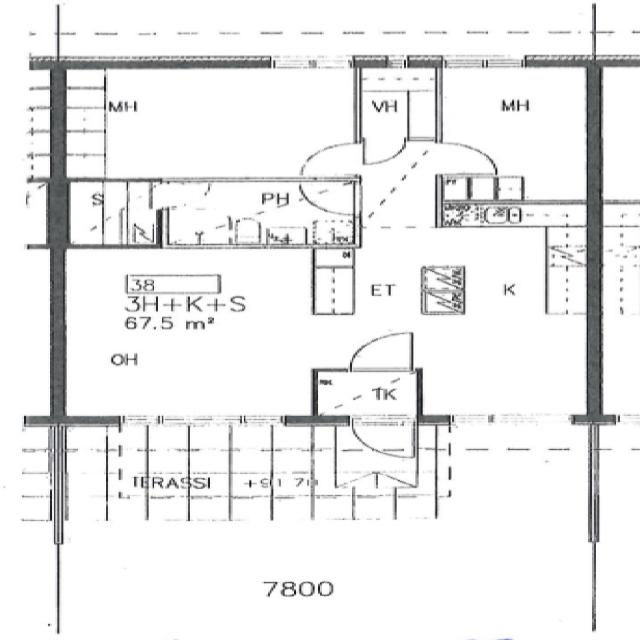door: (353, 416, 415, 462), (352, 333, 414, 372), (301, 182, 363, 215), (301, 143, 363, 175), (438, 144, 497, 174), (158, 183, 214, 209), (365, 138, 406, 164)
